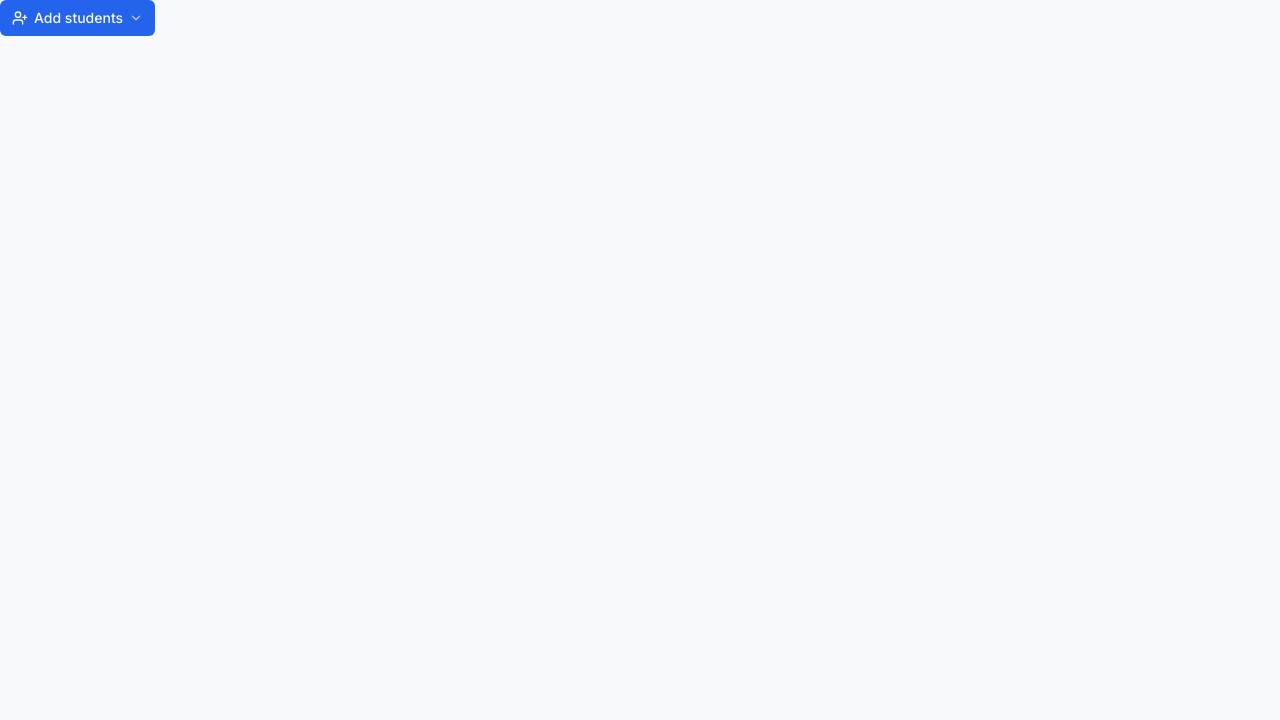
Test: AddStudentsMenu › Share opens the dialog with the full program link and an honest scope note
Click the button "Add students" at (78, 18), box x1=0 y1=0 x2=155 y2=36
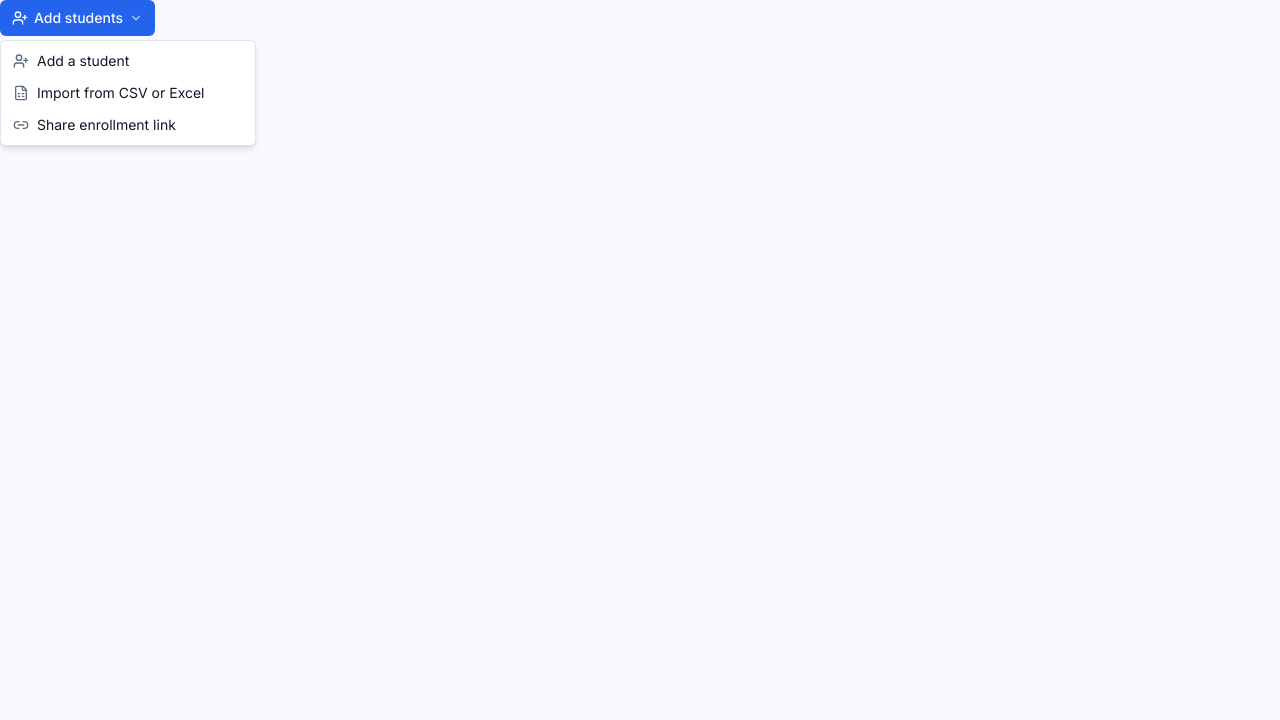
Click the menu item "Share enrollment link" at (94, 124), box x1=13 y1=116 x2=176 y2=133
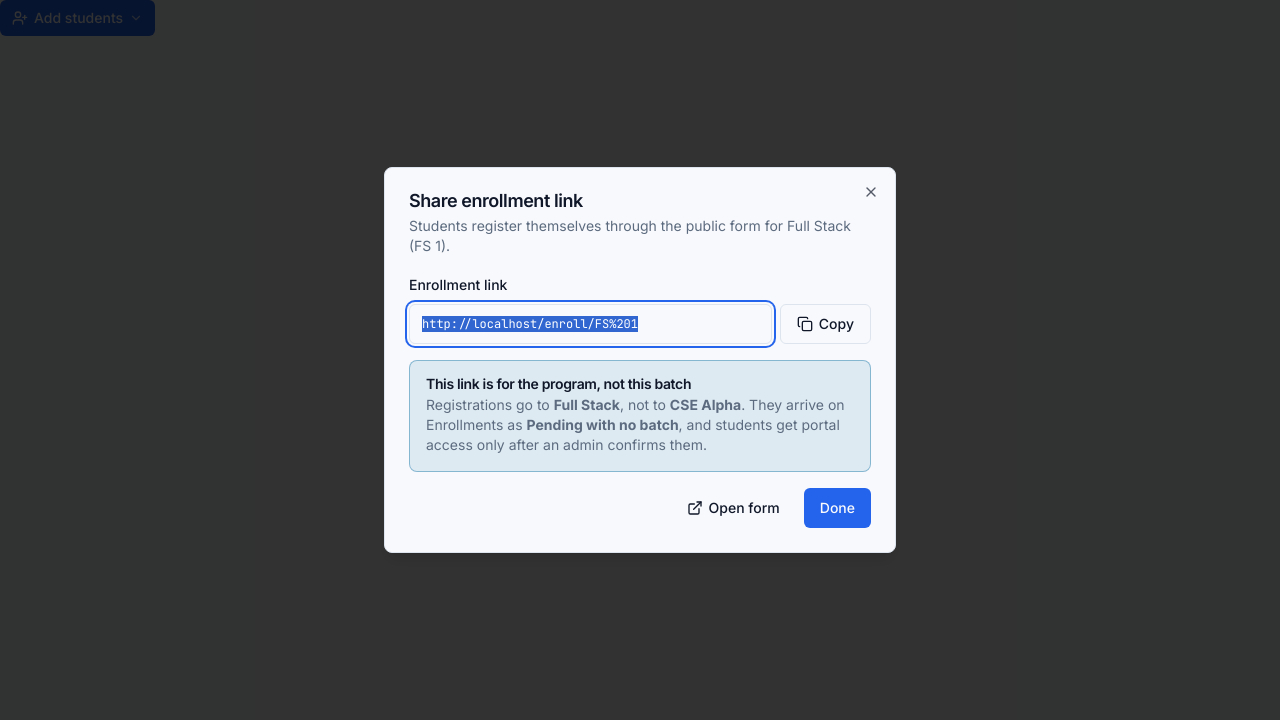
Result: the heading "This link is for the program, not this batch" is shown at x1=426 y1=375 x2=691 y2=392
Result: the dialog "Share enrollment link" shows "Pending with no batch" at x1=527 y1=416 x2=679 y2=433
